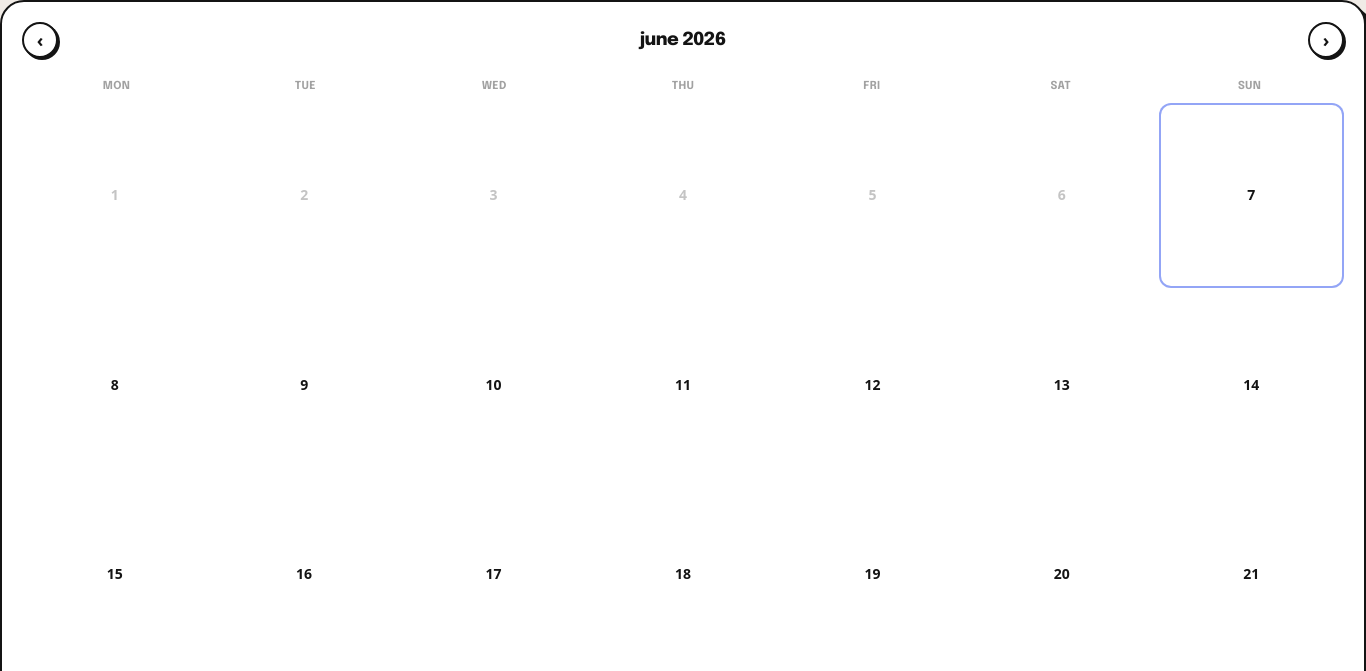
Test: Calendar › clicking next month button shows next month
Expected: the text "June 2026" is shown, [640,26,726,54]
Click the button named "Next month": (1326, 40) [1308,22,1344,58]
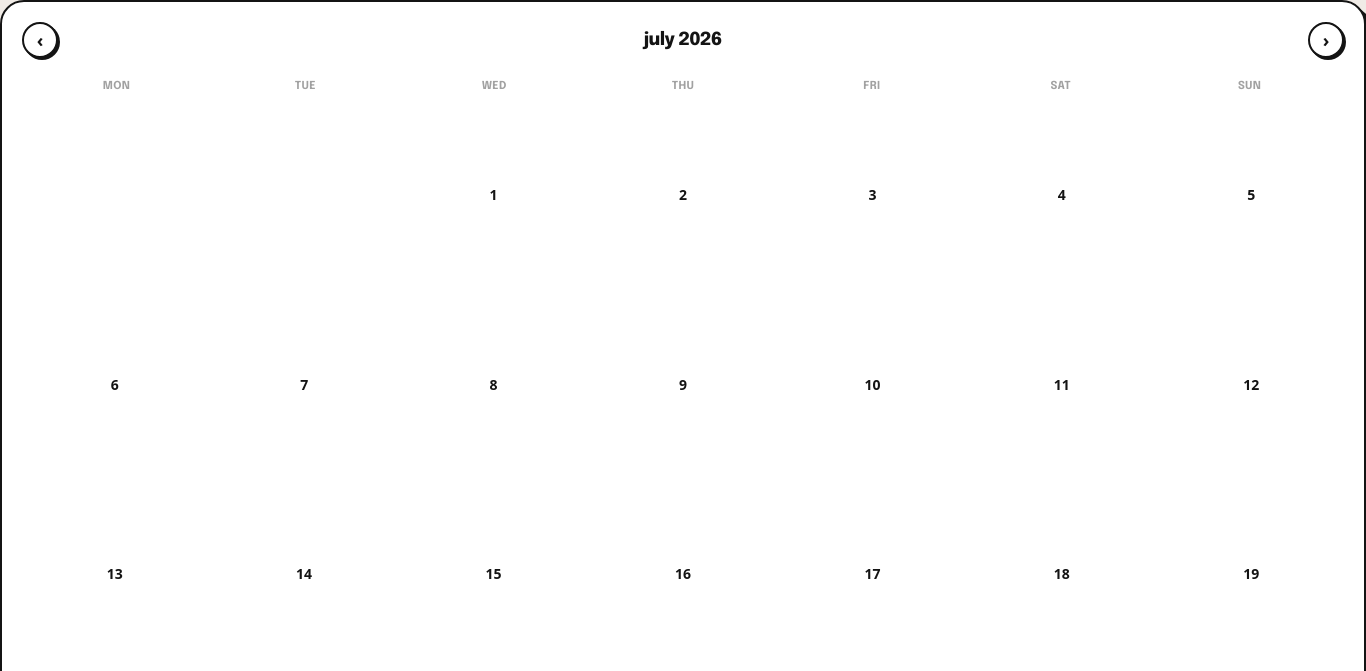
Expected: the text "July 2026" is shown, [644,26,722,54]
